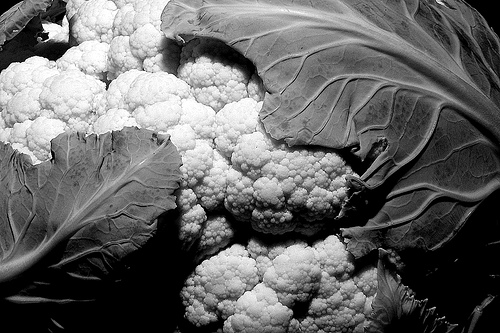cauliflower: (179, 225, 419, 332), (0, 40, 109, 165)
